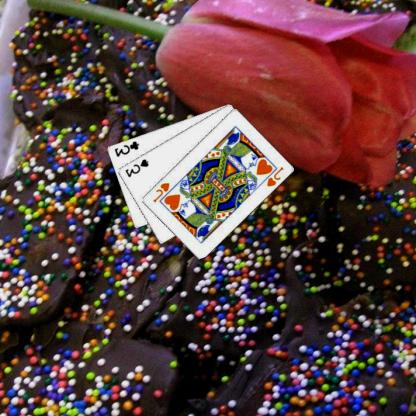3C: (114, 138, 142, 158)
3S: (124, 157, 151, 178)
JH: (266, 164, 286, 188), (152, 180, 172, 203)
